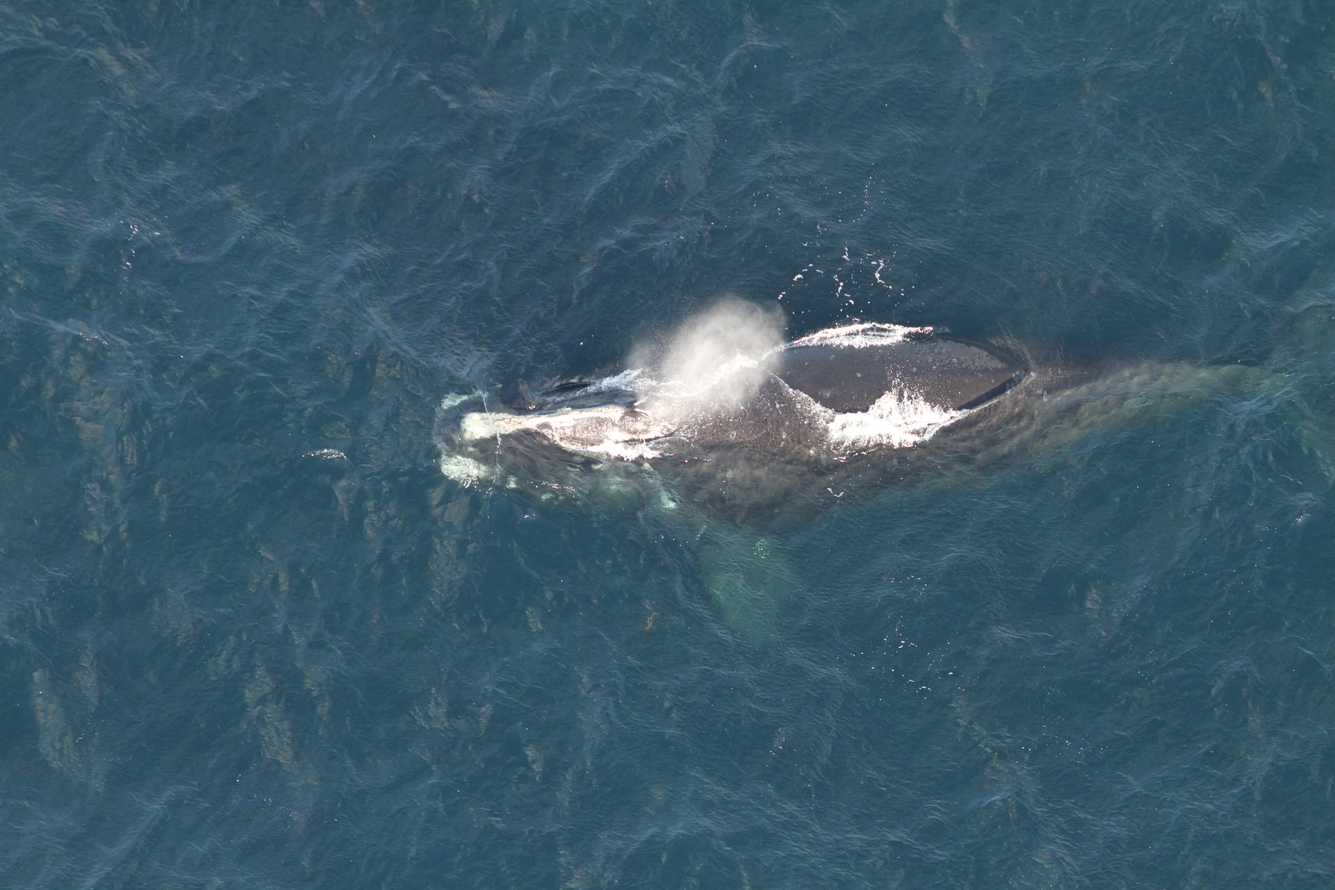whale: (428, 244, 1335, 649)
